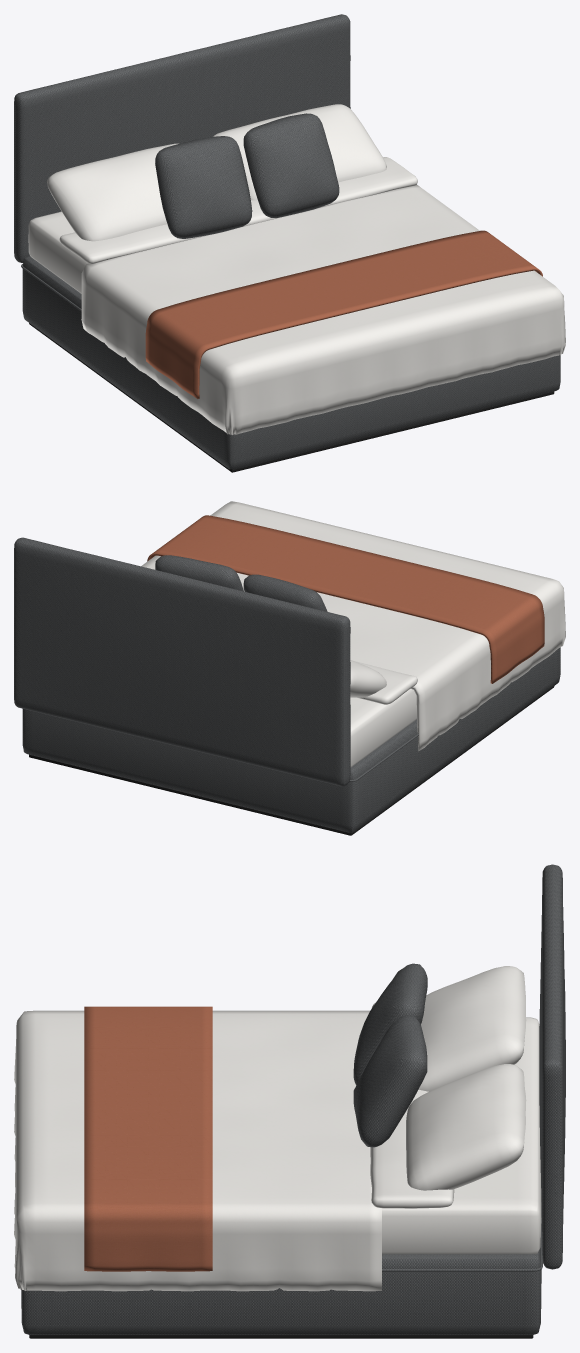
The model's file is canape_180.glb.
3 views of the same model, one above another, from view 1: azimuth 30°, elevation 25°; view 2: azimuth 150°, elevation 25°; view 3: azimuth 270°, elevation 25° (orthographic). The views are drawn at different scales.
Visible parts, largest first — view 1: canape_180; view 2: canape_180; view 3: canape_180.
Boxes of the visible parts, x1,y1,x2,y2 form: canape_180: [14, 14, 565, 472]; canape_180: [14, 501, 565, 835]; canape_180: [14, 864, 565, 1338].
Size of the model in its own units: 1.95 by 1.21 by 2.15.
Materials: 4 (3 with a texture image).
